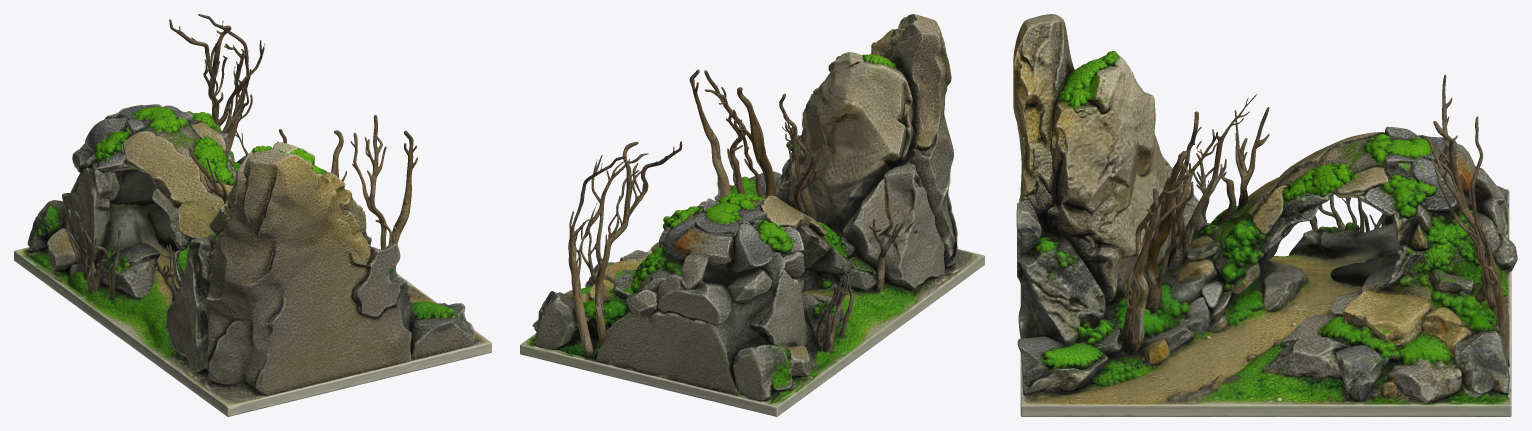
The model's file is Hangver2-v1.glb.
3 renders of one model, left to right at view 1: azimuth 30°, elevation 25°; view 2: azimuth 150°, elevation 25°; view 3: azimuth 270°, elevation 25°, orthographic. The views are drawn at different scales.
Parts seen in each view (by area): view 1: tripo_node_924f7bb2-96c4-44a3-9e2a-d4f8640a4a46; view 2: tripo_node_924f7bb2-96c4-44a3-9e2a-d4f8640a4a46; view 3: tripo_node_924f7bb2-96c4-44a3-9e2a-d4f8640a4a46.
Boxes of the visible parts, <box> form: tripo_node_924f7bb2-96c4-44a3-9e2a-d4f8640a4a46: <box>14,14,491,416</box>; tripo_node_924f7bb2-96c4-44a3-9e2a-d4f8640a4a46: <box>520,14,984,416</box>; tripo_node_924f7bb2-96c4-44a3-9e2a-d4f8640a4a46: <box>1013,14,1517,416</box>.
Size of the model in its own units: 0.6965 by 0.6069 by 0.9795.
Materials: 1 (1 with a texture image).
